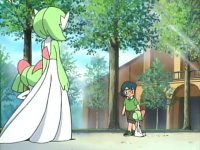gardevoir: (1, 7, 74, 147)
